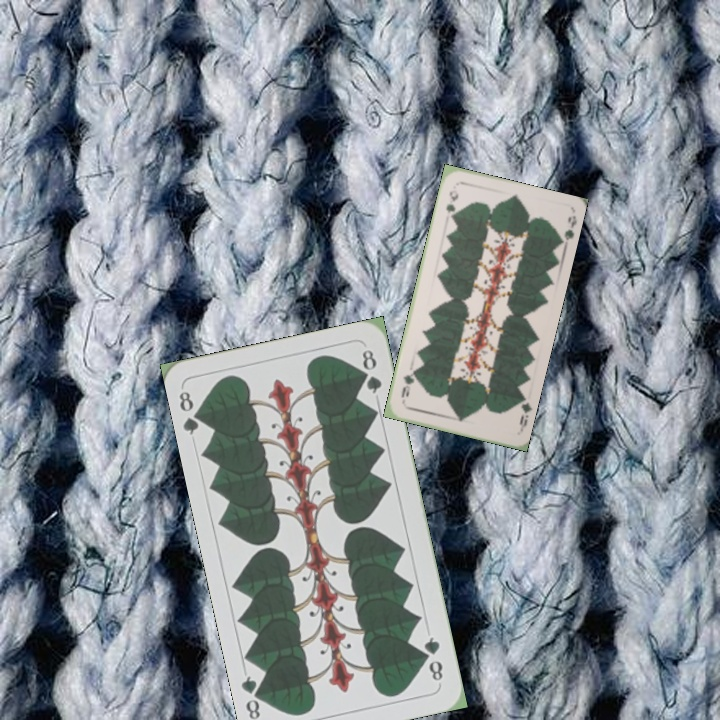G8: (175, 387, 207, 438), (420, 632, 446, 684)
G9: (513, 392, 533, 434), (442, 186, 461, 216)
